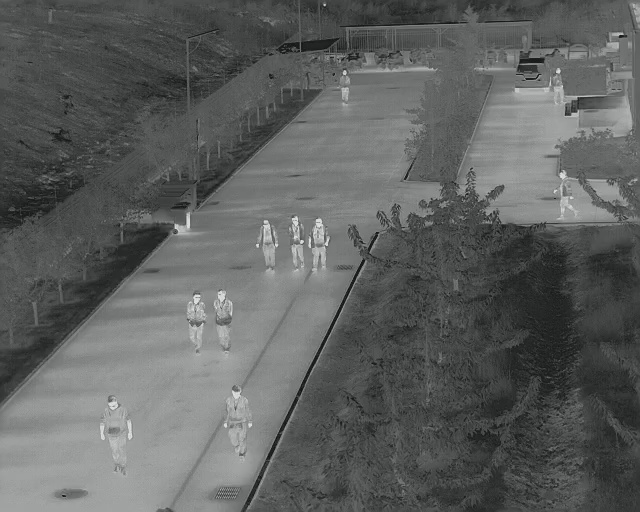person: (100, 396, 134, 476), (225, 386, 250, 461), (257, 221, 278, 273), (187, 291, 205, 351), (215, 289, 231, 350), (310, 216, 328, 268), (288, 214, 305, 269), (556, 167, 573, 219), (338, 69, 350, 104), (554, 68, 564, 107)
vehicle: (515, 58, 550, 94)
